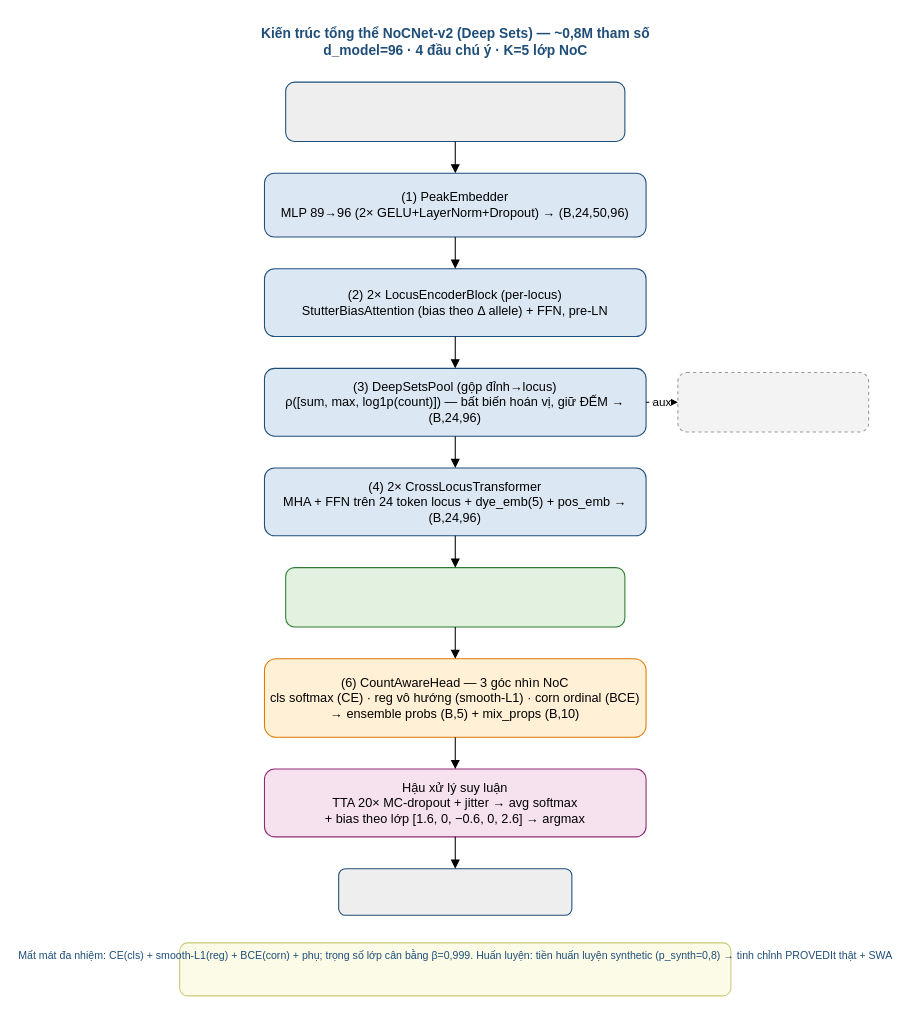
Some shapes in this 911 by 1014 pixel diagram are drawn without their labels. The shapes that lost their labels are listed below. From the top down, each one's centre as x and y in pixels, then its label:
At (x=455, y=111): "Đầu vào: tensor (B, 24, 50, 89) 24 locus × ≤50 đỉnh × 89 đặc trưng/đỉnh".
At (x=773, y=402): "Đầu phụ (train) locus_n_alleles (B,24,20), CE".
At (x=455, y=597): "(5) ProfilePool gộp [sum, mean, max] theo 24 locus → profile (B,96)".
At (x=455, y=891): "Đầu ra: NoC ∈ {1..5}".
